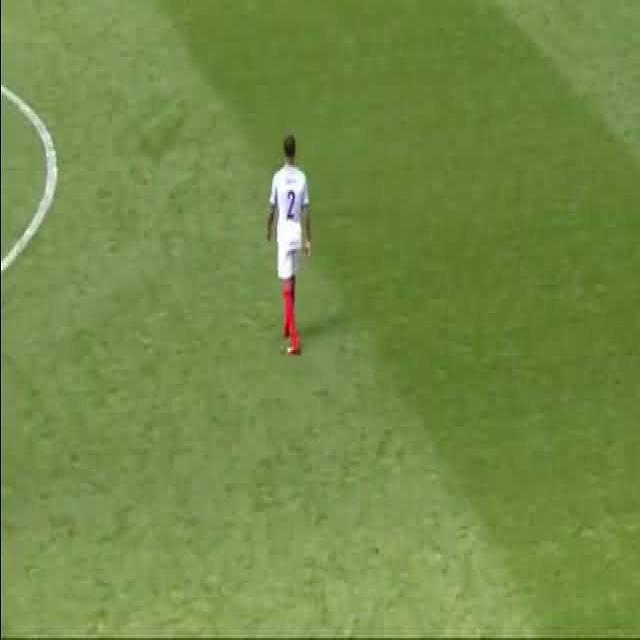player-white: (265, 135, 312, 354)
